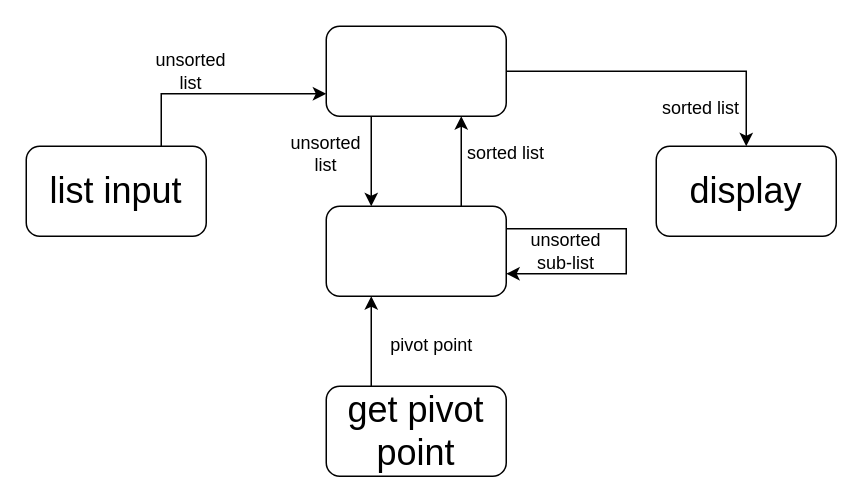
This 863x503 diagram has some shape labels left out. Here are the shapes that lost their labels. From the top down, the centre of each, then its label:
(x=415, y=70): main
(x=415, y=250): segergation sort
